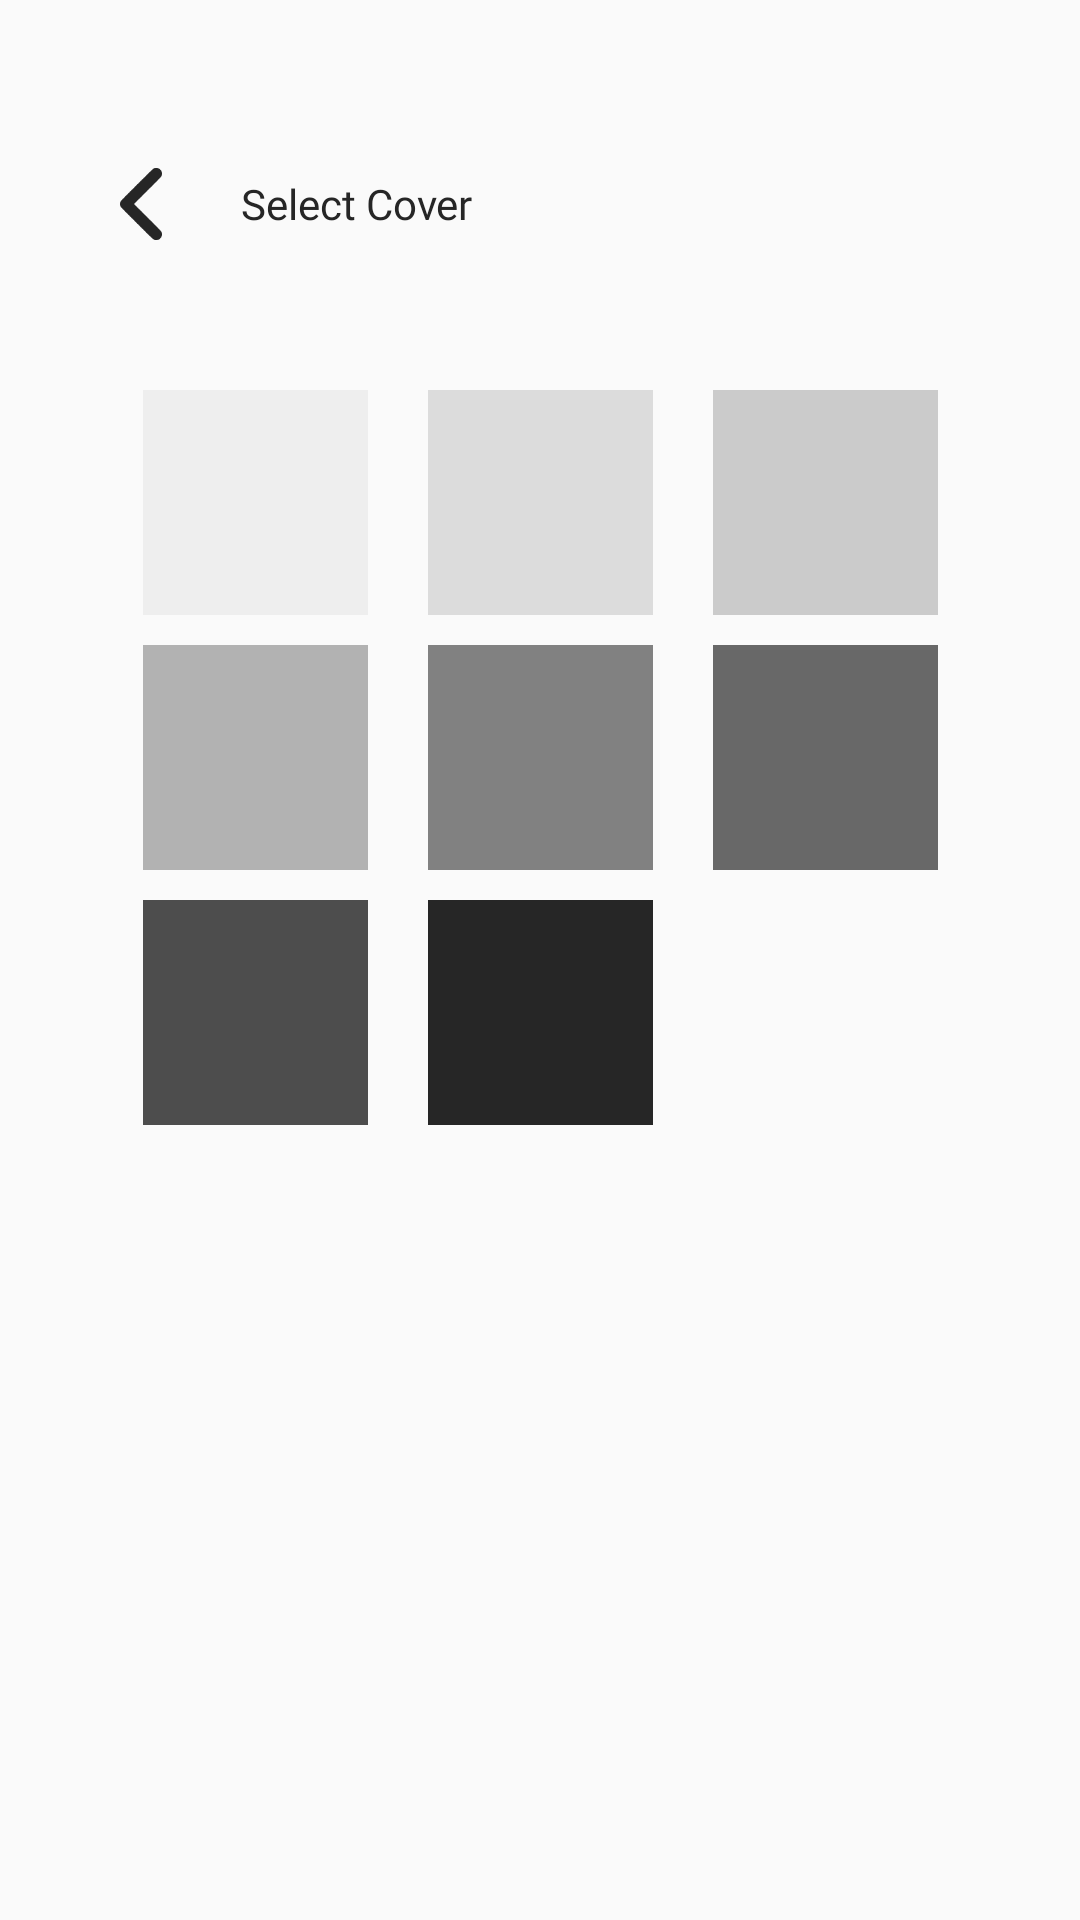

Point at icon controls on the screen. Image size 1080 × 1920, points as (x,y).
beforebtn: (141,204)
